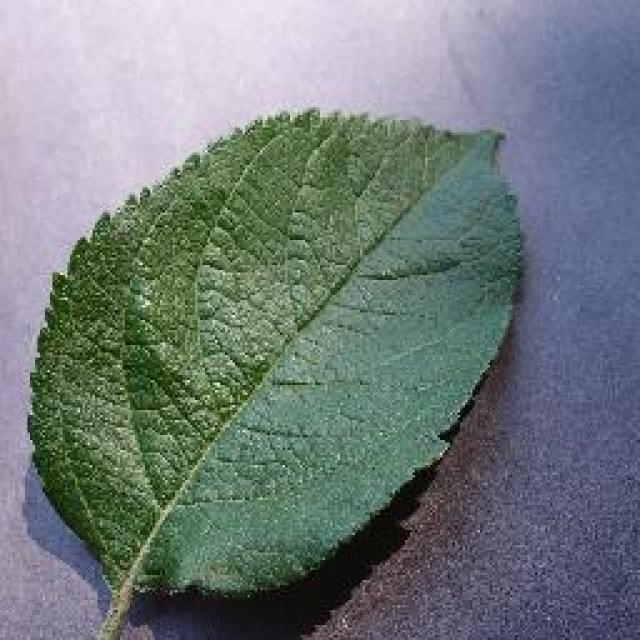apple healthy: (23, 102, 525, 638)
